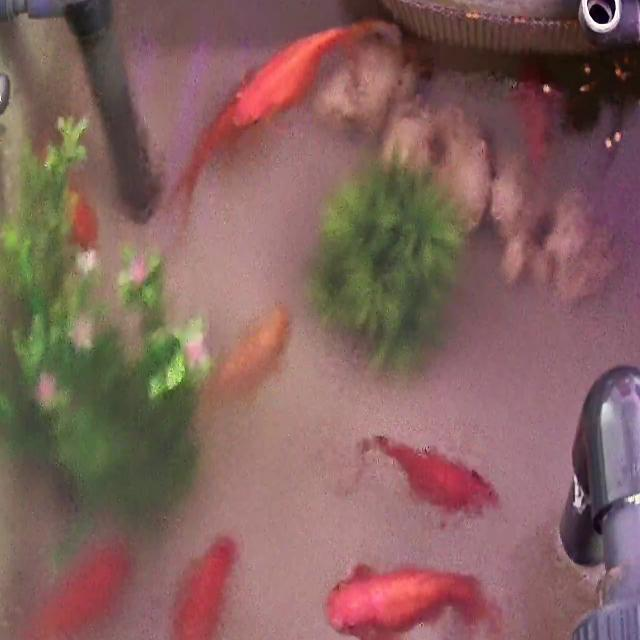fish: (223, 21, 338, 133), (13, 535, 135, 640), (330, 561, 492, 640), (169, 92, 260, 225), (365, 435, 494, 518), (200, 305, 290, 417), (169, 530, 239, 640), (512, 61, 559, 171), (66, 190, 100, 254)
